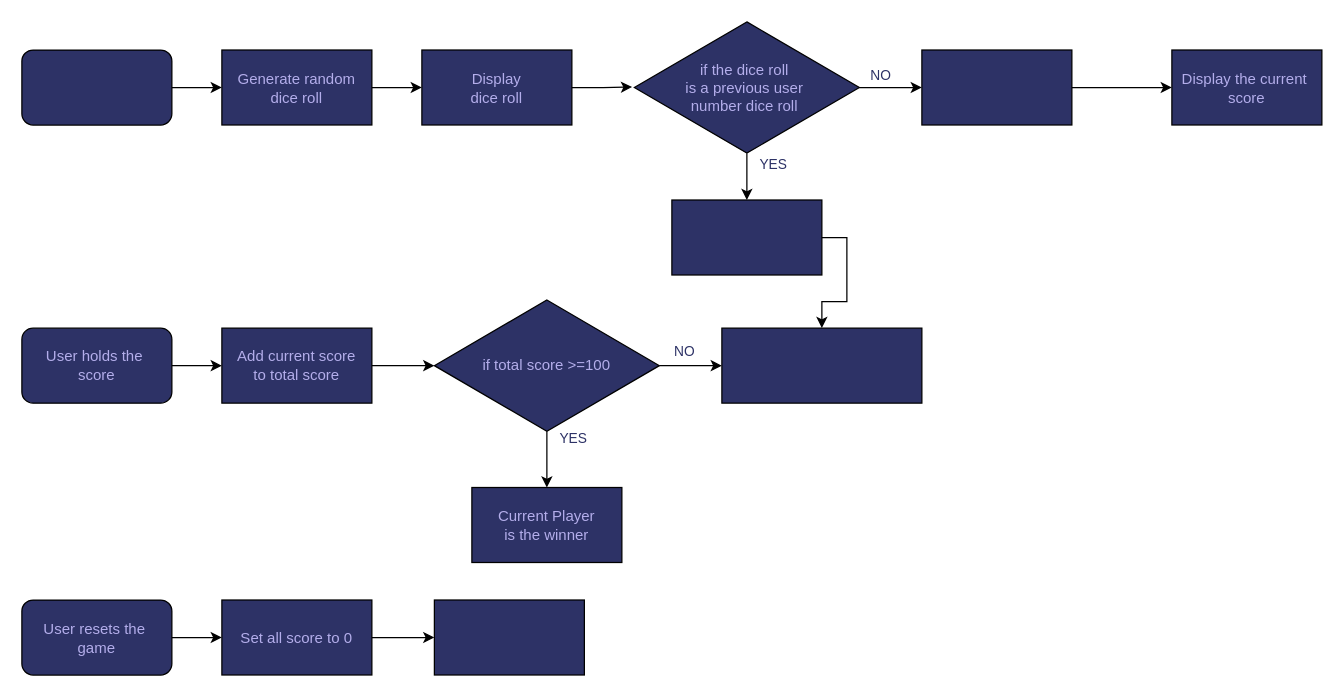
Image size: 1344x698. Some labels were removed from this diagram. The shapes that lost their labels are listed below. From the top down, each one's box as (x1, y1, x2, y2) in pixels, then its label:
(21, 49, 172, 125): User rolls dice
(921, 49, 1072, 125): Add dice roll to current score
(671, 199, 822, 275): Lose current score
(721, 327, 922, 403): Switch player (the background blue on the current player)
(433, 599, 584, 675): set player 1 as starting player
